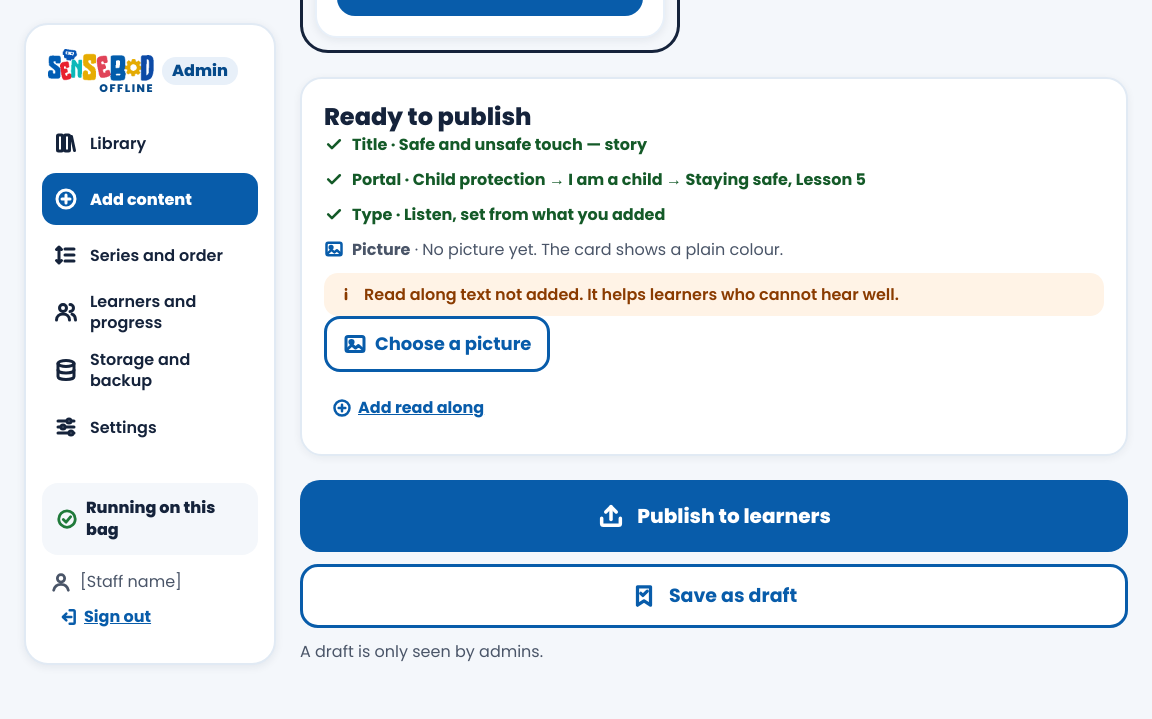
Test: check and publish › publishes once on a double tap and then shows where learners find it
(page scrolled)
Expected: the text "Read along text not added" is shown, [364,283,899,306]
Click the button "Publish to learners" at (714, 516), box [300,480,1128,552]
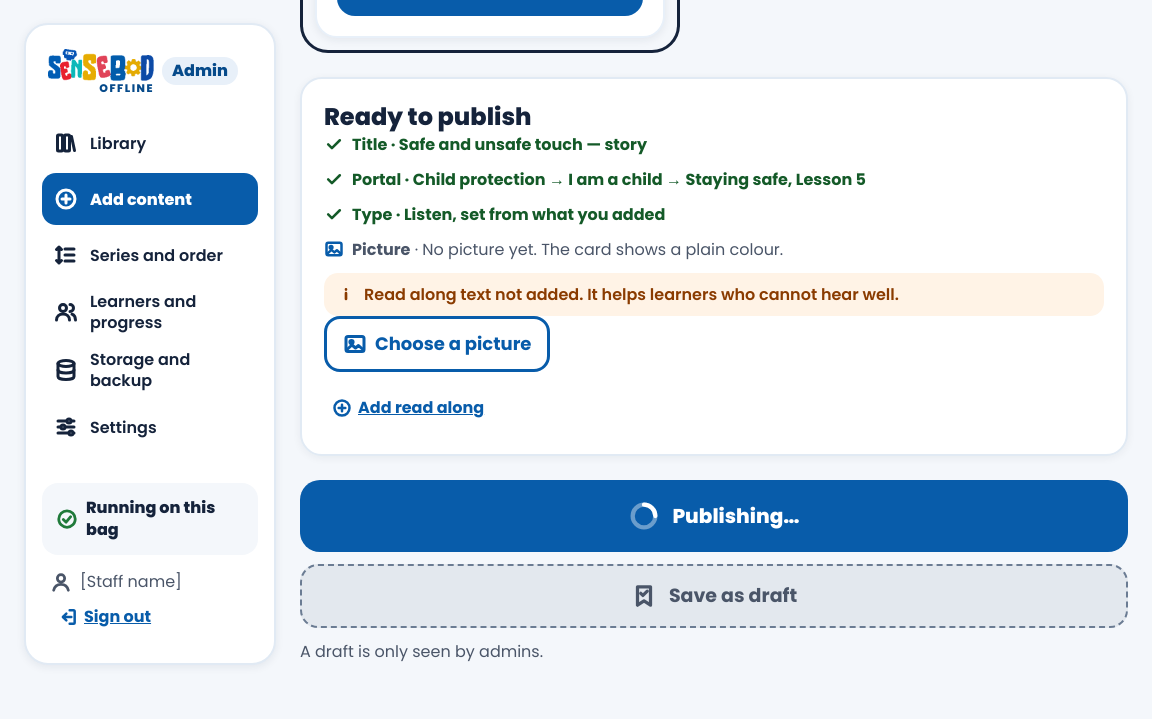
Click the button named "Publish to learners" at (714, 516), box [300,480,1128,552]
(page scrolled)
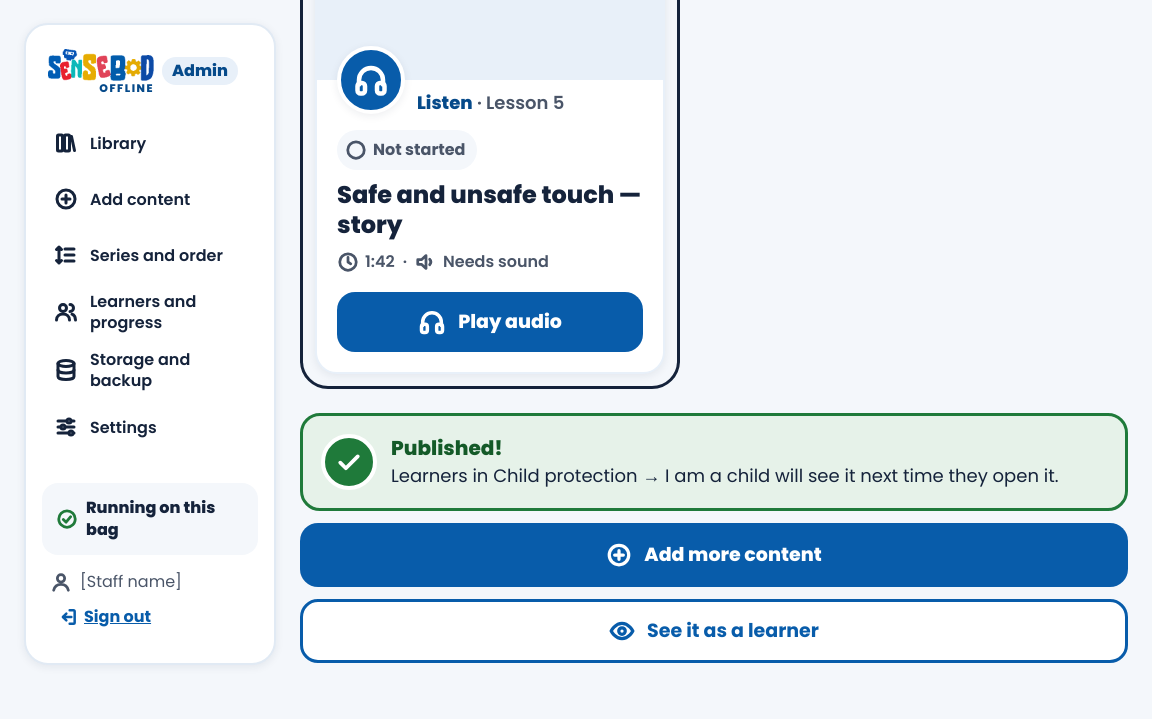
Expected: the text "Published!" is shown, [391,434,503,462]
